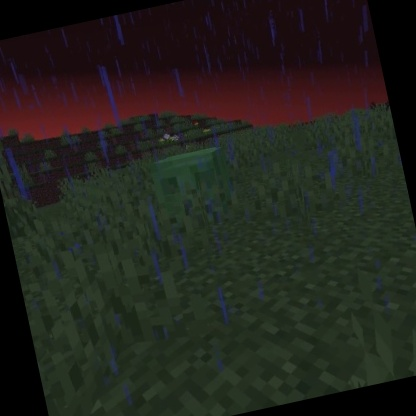slime: (145, 142, 238, 221)
